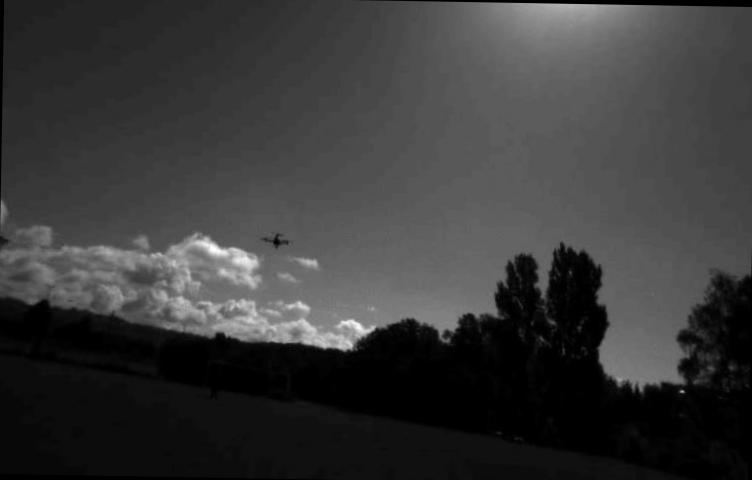drone: (259, 226, 291, 250)
